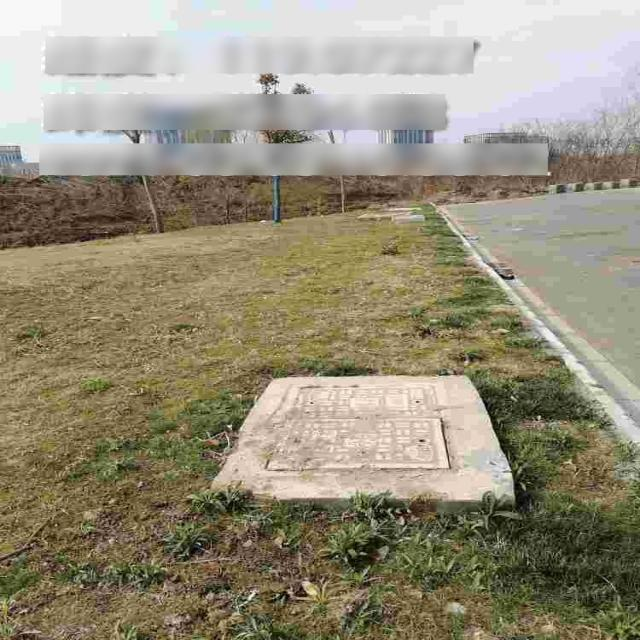Good: (243, 367, 470, 489)
